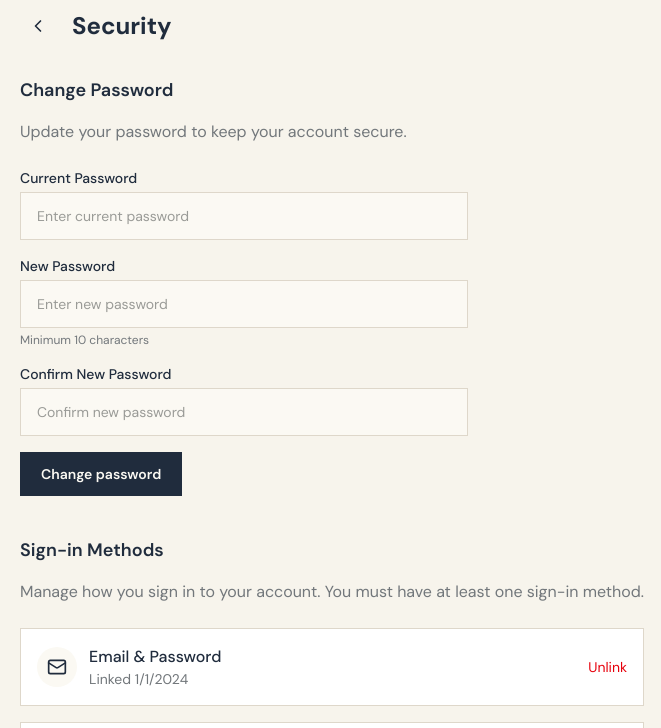
it: SecurityPage › validates password length
In the password field labelled "Current Password": (244, 216) [20,192,468,240], type "oldpassword"
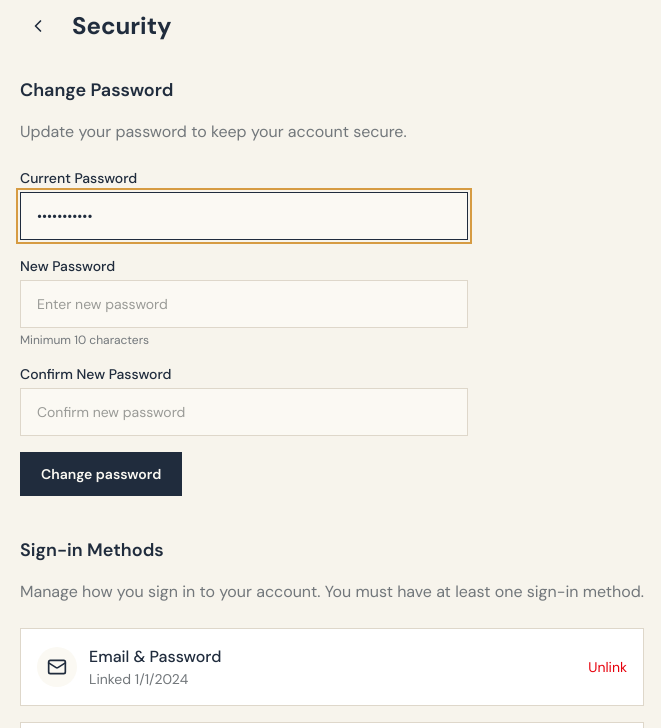
In the password field labelled "New Password": (244, 304) [20,280,468,328], type "short"
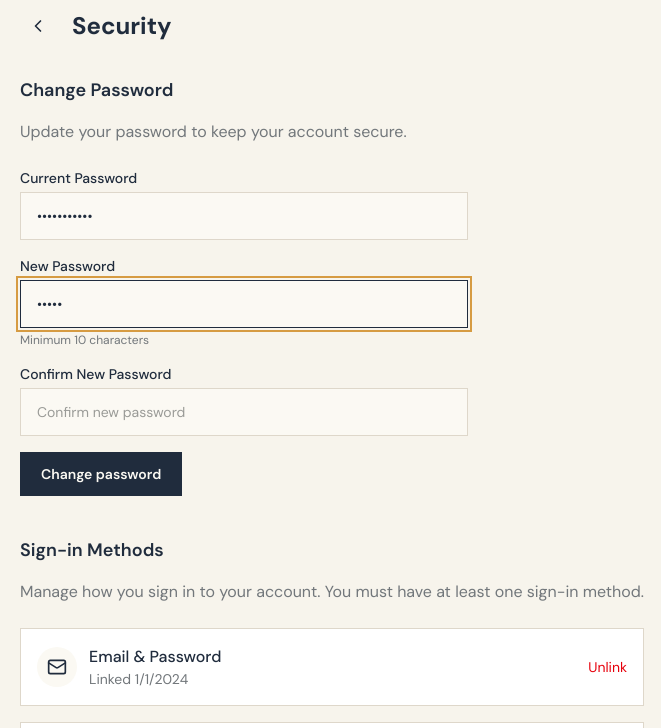
In the password field labelled "Confirm New Password": (244, 412) [20,388,468,436], type "short"
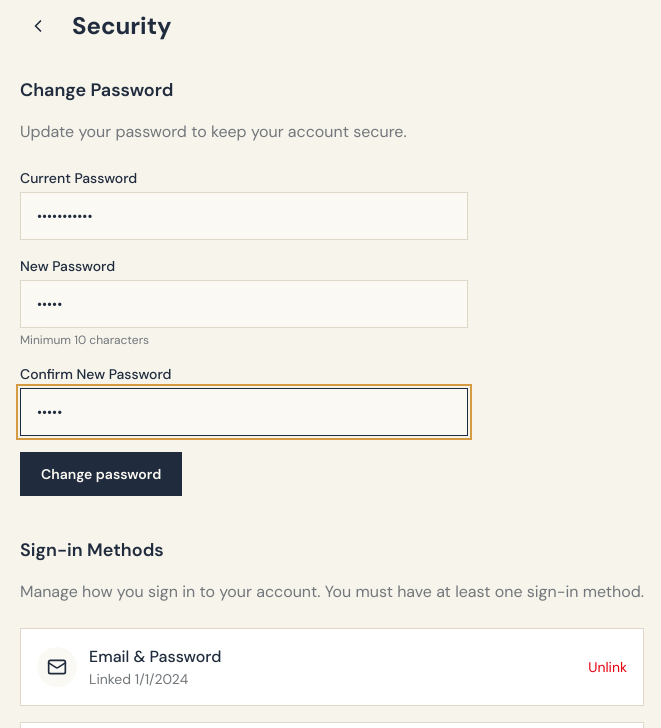
Click the button "Change password": (101, 474) [20,452,182,496]
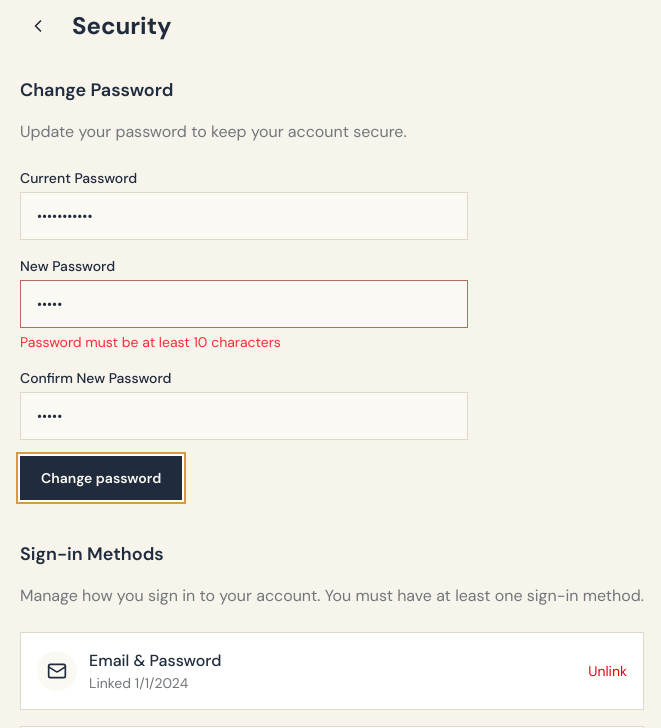
Result: the text "Password must be at least 10 characters" is shown at [20,333,281,351]
